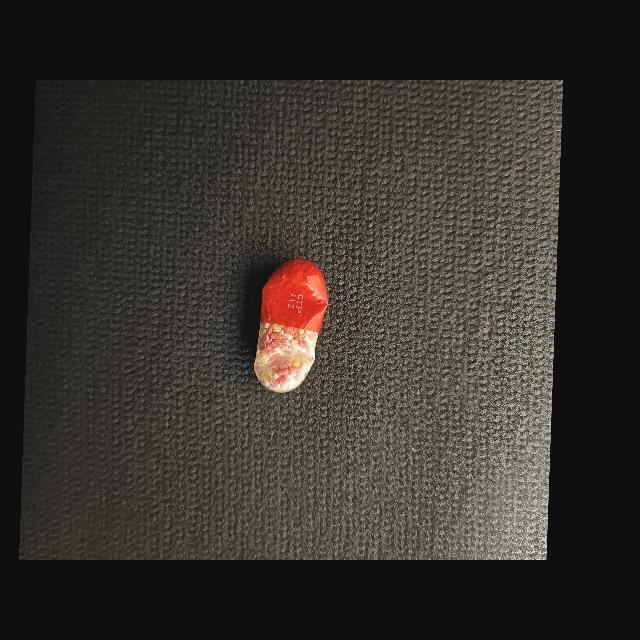Defective Capsule: (254, 259, 328, 393)
